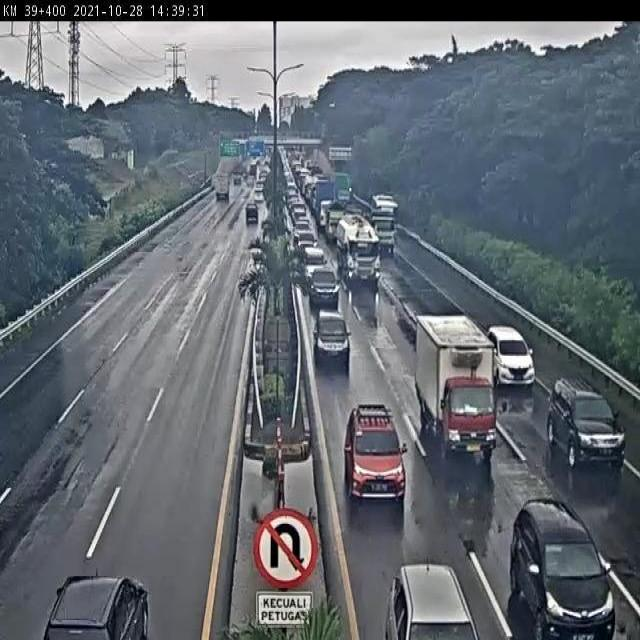big truck: (332, 210, 380, 286)
car: (505, 492, 615, 640), (37, 556, 162, 640), (372, 554, 475, 640), (547, 373, 626, 471), (342, 406, 406, 502), (485, 322, 538, 394), (312, 308, 350, 368), (309, 266, 340, 310), (301, 246, 327, 282)
small truck: (410, 311, 498, 464), (369, 207, 394, 253)
